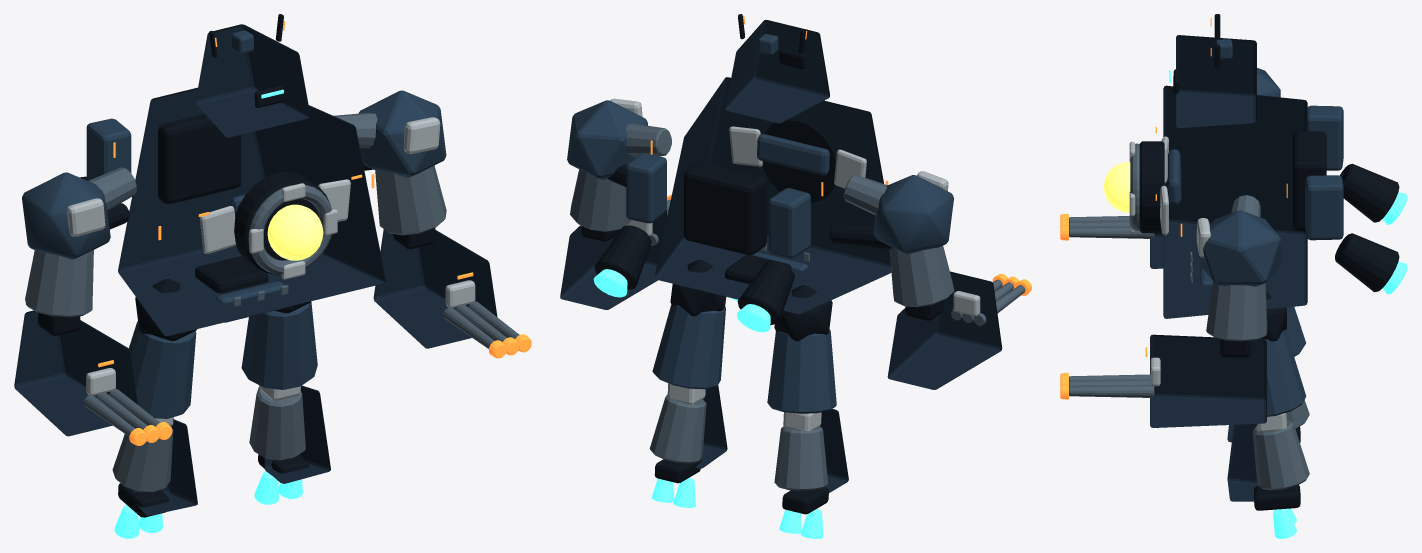
File: sky-sentinel.glb
3 views of the same model, side by side, from view 1: azimuth 30°, elevation 25°; view 2: azimuth 150°, elevation 25°; view 3: azimuth 270°, elevation 25° (orthographic). The views are drawn at different scales.
Visible parts, largest first — view 1: ChestBlock, ForearmArmor, Helmet, ForearmArmor.001, Backpack, Thigh.001, Shoulder, Thigh, Shoulder.001, UpperArm, UpperArm.001, Shin.001 (+24 smaller); view 2: ChestBlock, ForearmArmor, Helmet, Backpack, Thigh, Shoulder, Thigh.001, Shoulder.001, ForearmArmor.001, UpperArm, Shin, Shin.001 (+24 smaller); view 3: ChestBlock, ForearmArmor.001, Helmet, Shoulder.001, UpperArm.001, Shin.001, ThrusterArmor.001, Thigh.001, MainJet.001, MainJet, Backpack, CoreHousing (+17 smaller).
Boxes of the visible parts, <box> form: ChestBlock: <box>118,87,385,336</box>; ForearmArmor: <box>14,310,137,436</box>; Helmet: <box>195,24,310,137</box>; ForearmArmor.001: <box>373,229,497,348</box>; Backpack: <box>158,114,241,203</box>; Thigh.001: <box>241,302,317,389</box>; Shoulder: <box>22,172,110,259</box>; Thigh: <box>129,321,196,418</box>; Shoulder.001: <box>358,90,446,177</box>; UpperArm: <box>25,250,93,317</box>; UpperArm.001: <box>375,165,446,235</box>; Shin.001: <box>249,387,305,460</box>; ChestBlock: <box>654,77,891,314</box>; ForearmArmor: <box>887,271,1002,389</box>; Helmet: <box>725,20,829,123</box>; Backpack: <box>684,162,766,255</box>; Thigh: <box>767,329,836,413</box>; Shoulder: <box>873,175,953,254</box>; Thigh.001: <box>652,305,725,389</box>; Shoulder.001: <box>567,100,647,179</box>; ForearmArmor.001: <box>560,210,667,309</box>; UpperArm: <box>889,245,954,307</box>; Shin: <box>774,426,828,490</box>; Shin.001: <box>649,394,706,463</box>; ChestBlock: <box>1163,85,1307,318</box>; ForearmArmor.001: <box>1150,334,1266,427</box>; Helmet: <box>1176,35,1256,128</box>; Shoulder.001: <box>1199,210,1280,286</box>; UpperArm.001: <box>1206,281,1267,341</box>; Shin.001: <box>1252,419,1309,490</box>; ThrusterArmor.001: <box>1305,175,1343,240</box>; Thigh.001: <box>1259,330,1306,416</box>; MainJet.001: <box>1335,233,1399,292</box>; MainJet: <box>1340,163,1399,222</box>; Backpack: <box>1293,131,1326,230</box>; CoreHousing: <box>1139,141,1164,233</box>.
Size of the model in its own units: 60.4 by 69.14 by 46.26.
